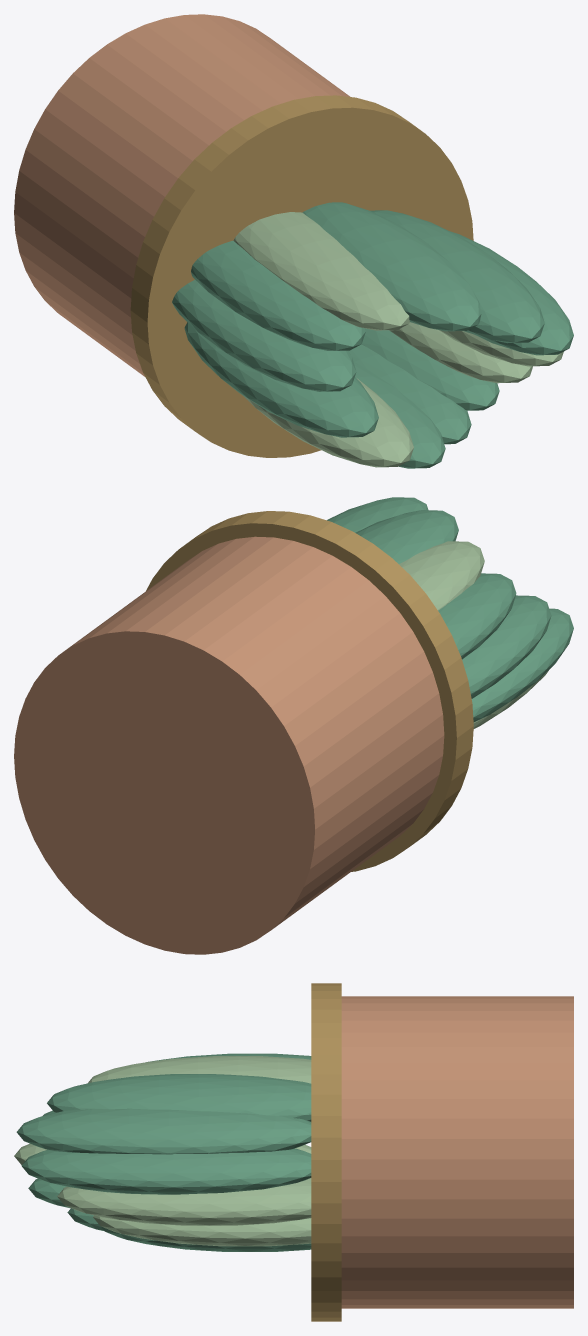
File: prop_bottom_potted_fern.glb
The picture shows the model from 3 angles, top to bottom: view 1: azimuth 30°, elevation 25°; view 2: azimuth 150°, elevation 25°; view 3: azimuth 270°, elevation 25°; orthographic projection. The views are drawn at different scales.
Visible parts, largest first — view 1: prop_bottom_potted_fern_ceramic_pot_body, prop_bottom_potted_fern_brass_pot_rim, prop_bottom_potted_fern_leaf_04, prop_bottom_potted_fern_leaf_05, prop_bottom_potted_fern_leaf_06, prop_bottom_potted_fern_leaf_07, prop_bottom_potted_fern_leaf_08, prop_bottom_potted_fern_leaf_03, prop_bottom_potted_fern_leaf_09, prop_bottom_potted_fern_leaf_12, prop_bottom_potted_fern_leaf_11, prop_bottom_potted_fern_leaf_13 (+3 smaller); view 2: prop_bottom_potted_fern_ceramic_pot_body, prop_bottom_potted_fern_brass_pot_rim, prop_bottom_potted_fern_leaf_07, prop_bottom_potted_fern_leaf_06, prop_bottom_potted_fern_leaf_05, prop_bottom_potted_fern_leaf_08, prop_bottom_potted_fern_leaf_04, prop_bottom_potted_fern_leaf_03; view 3: prop_bottom_potted_fern_ceramic_pot_body, prop_bottom_potted_fern_leaf_03, prop_bottom_potted_fern_leaf_02, prop_bottom_potted_fern_brass_pot_rim, prop_bottom_potted_fern_leaf_04, prop_bottom_potted_fern_leaf_01, prop_bottom_potted_fern_leaf_13, prop_bottom_potted_fern_leaf_05, prop_bottom_potted_fern_leaf_12, prop_bottom_potted_fern_leaf_10, prop_bottom_potted_fern_leaf_06.
Boxes of the visible parts, left/top/right/bottom form: prop_bottom_potted_fern_ceramic_pot_body: left=14, top=14, right=350, bottom=376; prop_bottom_potted_fern_brass_pot_rim: left=130, top=95, right=473, bottom=457; prop_bottom_potted_fern_leaf_04: left=302, top=202, right=481, bottom=331; prop_bottom_potted_fern_leaf_05: left=233, top=212, right=409, bottom=330; prop_bottom_potted_fern_leaf_06: left=191, top=240, right=365, bottom=350; prop_bottom_potted_fern_leaf_07: left=172, top=280, right=356, bottom=391; prop_bottom_potted_fern_leaf_08: left=184, top=322, right=378, bottom=437; prop_bottom_potted_fern_leaf_03: left=370, top=210, right=544, bottom=343; prop_bottom_potted_fern_leaf_09: left=243, top=378, right=413, bottom=467; prop_bottom_potted_fern_leaf_12: left=362, top=328, right=499, bottom=410; prop_bottom_potted_fern_leaf_11: left=348, top=344, right=471, bottom=444; prop_bottom_potted_fern_leaf_13: left=389, top=322, right=532, bottom=383; prop_bottom_potted_fern_ceramic_pot_body: left=14, top=536, right=444, bottom=954; prop_bottom_potted_fern_brass_pot_rim: left=146, top=511, right=473, bottom=871; prop_bottom_potted_fern_leaf_07: left=462, top=595, right=551, bottom=698; prop_bottom_potted_fern_leaf_06: left=438, top=573, right=516, bottom=659; prop_bottom_potted_fern_leaf_05: left=399, top=541, right=484, bottom=610; prop_bottom_potted_fern_leaf_08: left=471, top=608, right=573, bottom=722; prop_bottom_potted_fern_leaf_04: left=355, top=510, right=458, bottom=563; prop_bottom_potted_fern_leaf_03: left=327, top=497, right=428, bottom=532; prop_bottom_potted_fern_ceramic_pot_body: left=341, top=996, right=573, bottom=1308; prop_bottom_potted_fern_leaf_03: left=16, top=1108, right=311, bottom=1154; prop_bottom_potted_fern_leaf_02: left=21, top=1148, right=311, bottom=1194; prop_bottom_potted_fern_brass_pot_rim: left=311, top=983, right=341, bottom=1321; prop_bottom_potted_fern_leaf_04: left=47, top=1074, right=311, bottom=1121; prop_bottom_potted_fern_leaf_01: left=57, top=1178, right=311, bottom=1225; prop_bottom_potted_fern_leaf_13: left=93, top=1215, right=311, bottom=1246; prop_bottom_potted_fern_leaf_05: left=88, top=1056, right=311, bottom=1083; prop_bottom_potted_fern_leaf_12: left=100, top=1226, right=311, bottom=1251; prop_bottom_potted_fern_leaf_10: left=28, top=1178, right=70, bottom=1208; prop_bottom_potted_fern_leaf_06: left=146, top=1053, right=311, bottom=1062.
Size of the model in its own units: 0.39 by 0.39 by 0.6451.
